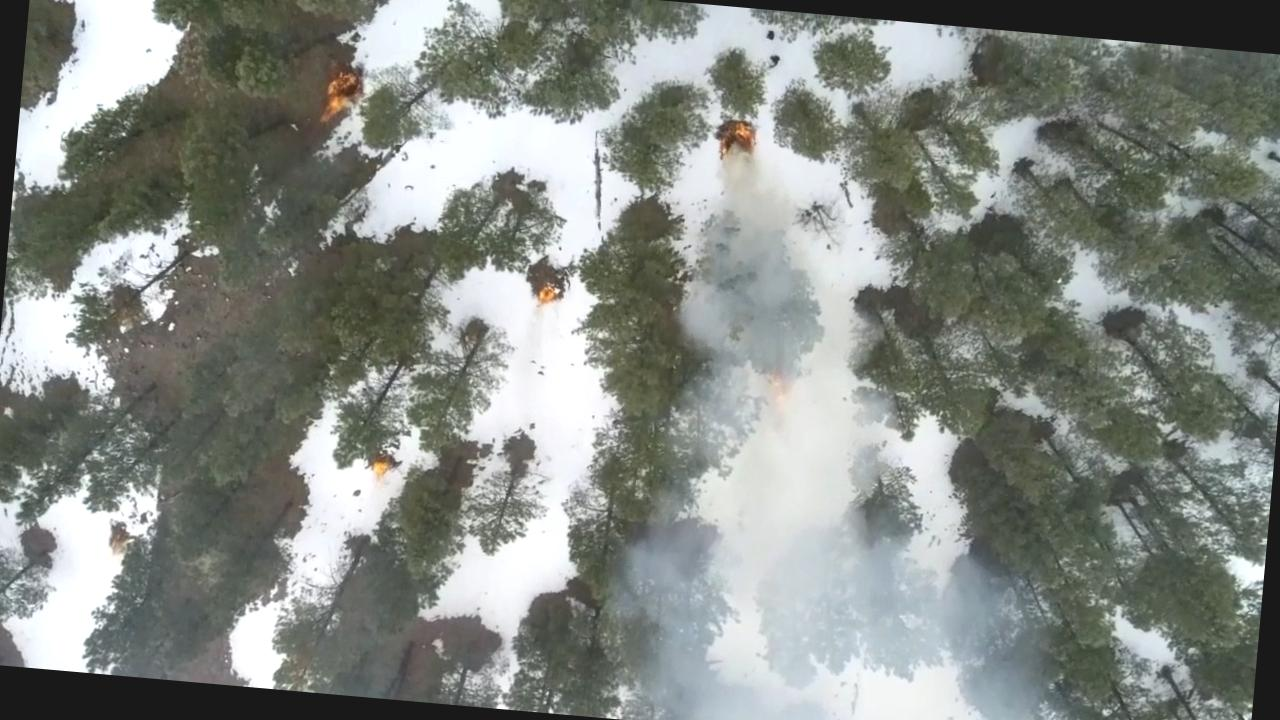fire: (316, 70, 360, 127), (712, 118, 759, 170), (529, 276, 563, 313), (366, 458, 396, 484)
smoke: (602, 452, 1089, 720), (656, 236, 911, 478)
